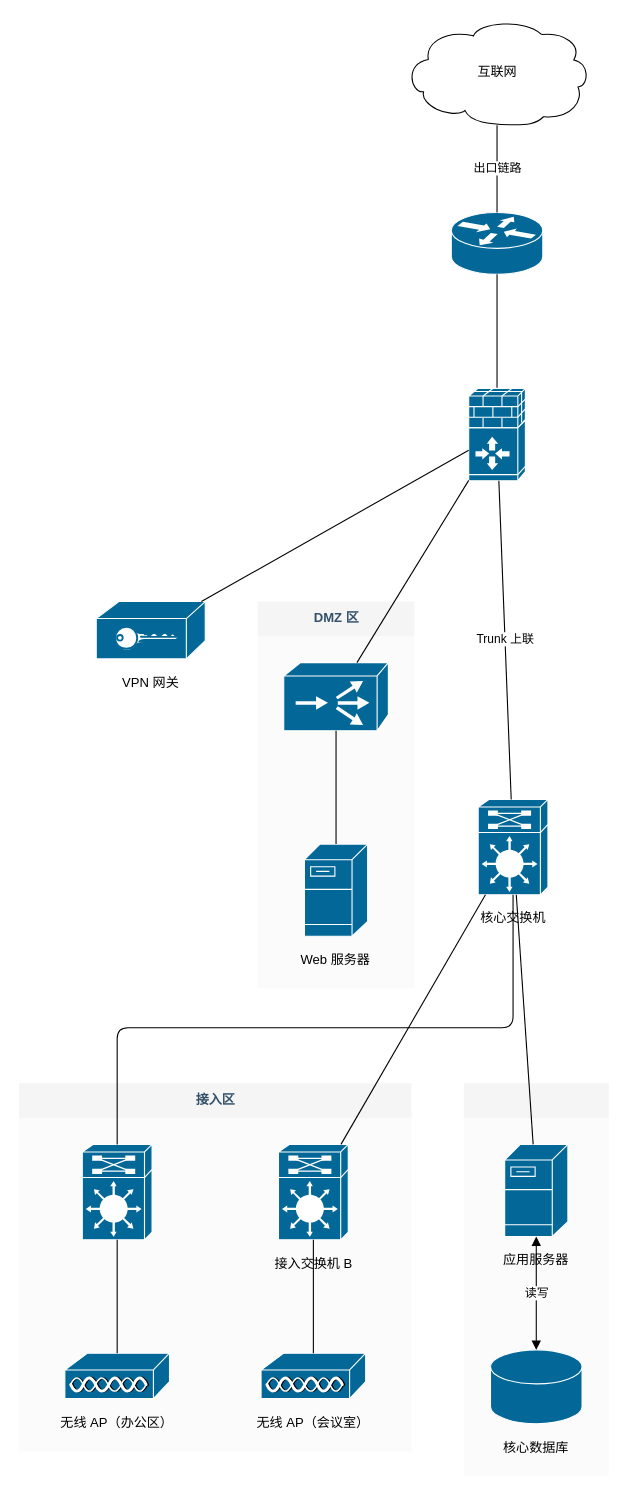
Some shapes in this 627 by 1495 pixel diagram are drawn without their labels. Here are the shapes that lost their labels. From the top down, the box of each, then its label:
(450, 211, 543, 274): 出口路由器
(468, 387, 525, 481): 防火墙
(283, 662, 388, 731): 负载均衡
(81, 1143, 152, 1240): 接入交换机 A
(463, 1083, 608, 1475): 核心业务区
